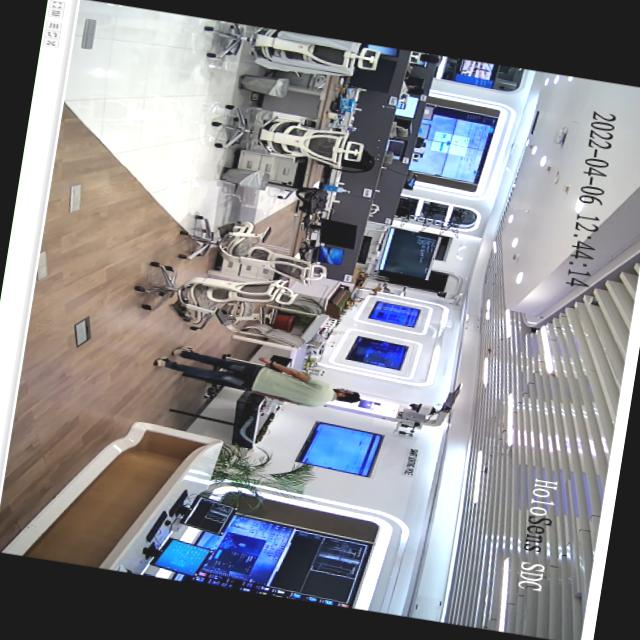long weapon: (198, 376, 265, 398)
